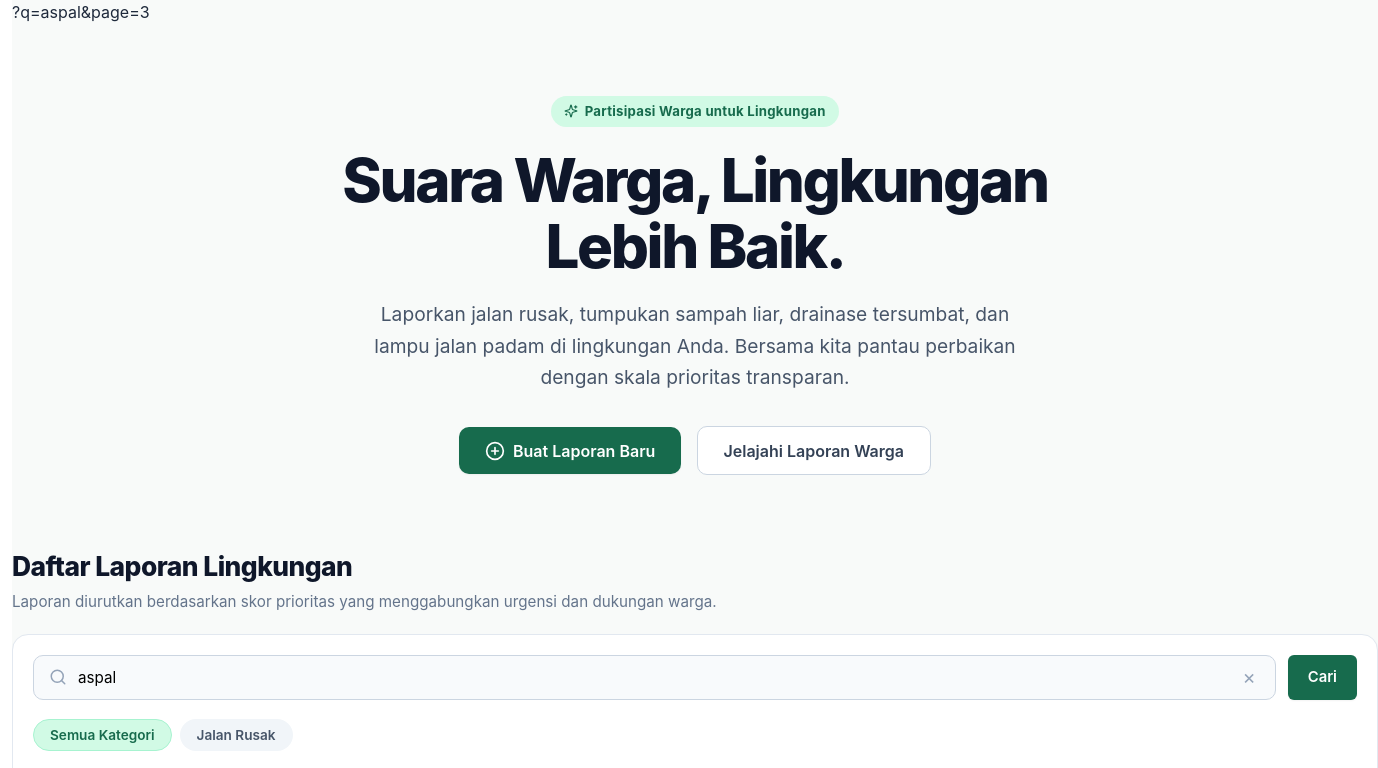
Test: HomePage › clears search directly and resets sort and category filters to page one
Click the button "×" at (1249, 677), box [1234,661,1264,693]
(page scrolled)
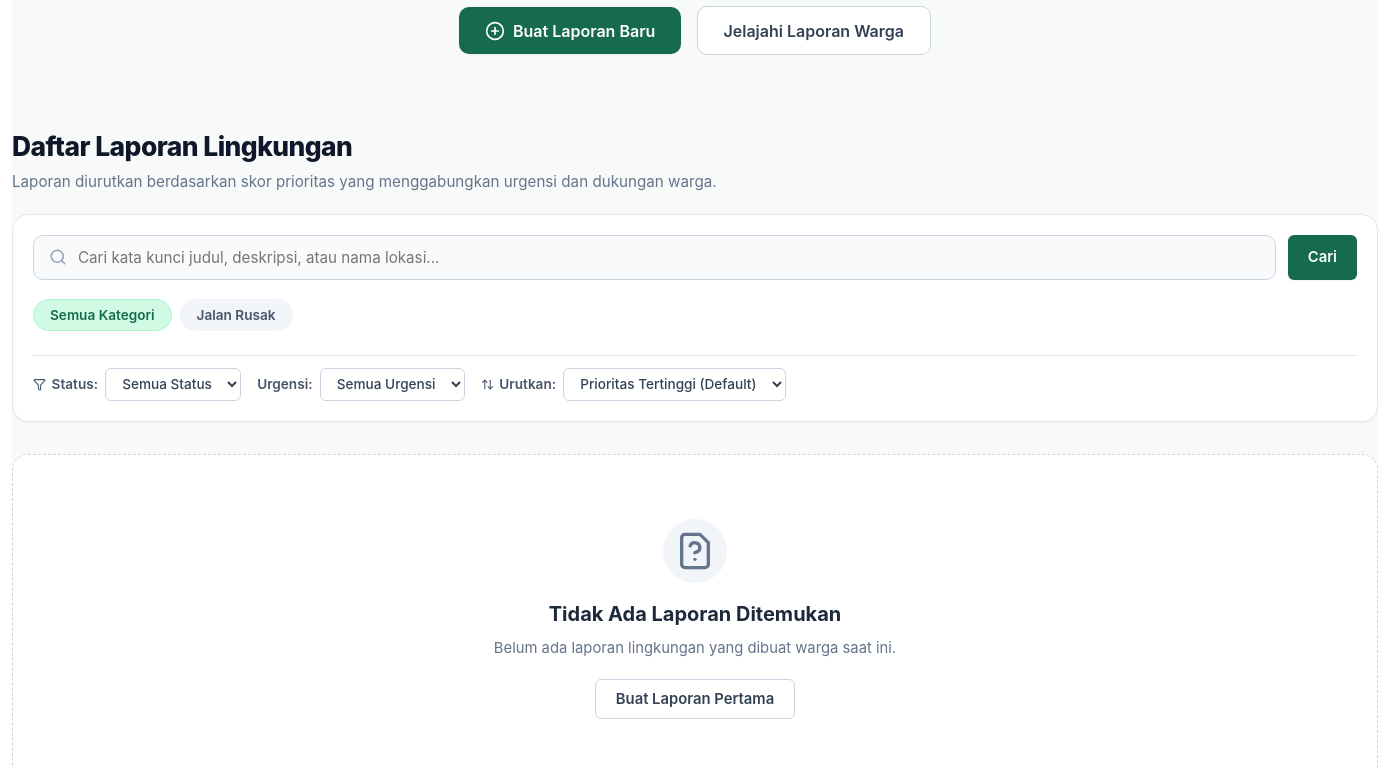
Select "Rendah" in the dropdown labelled "Urgensi:" at (392, 384), box [320,368,465,401]
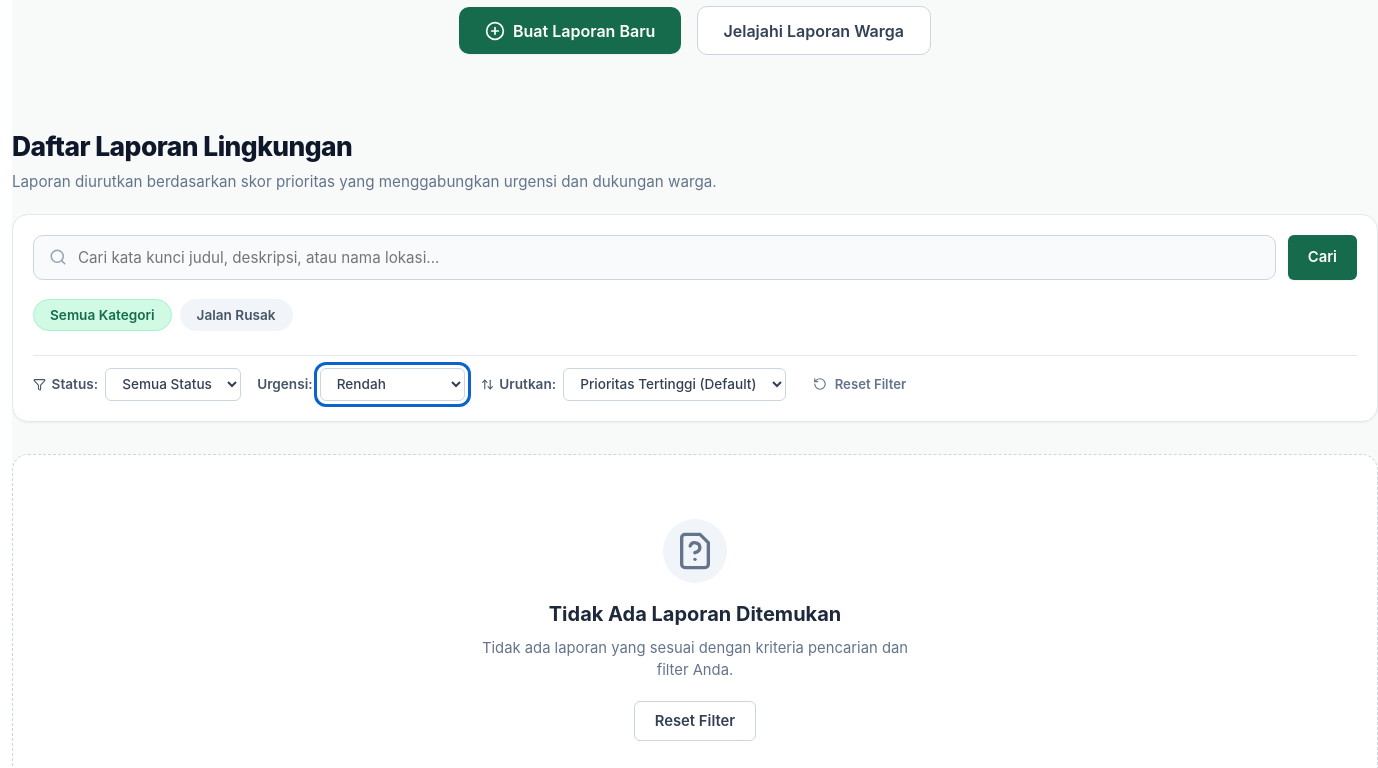
Click the button "Semua Kategori" at (102, 315), box [33,299,172,331]
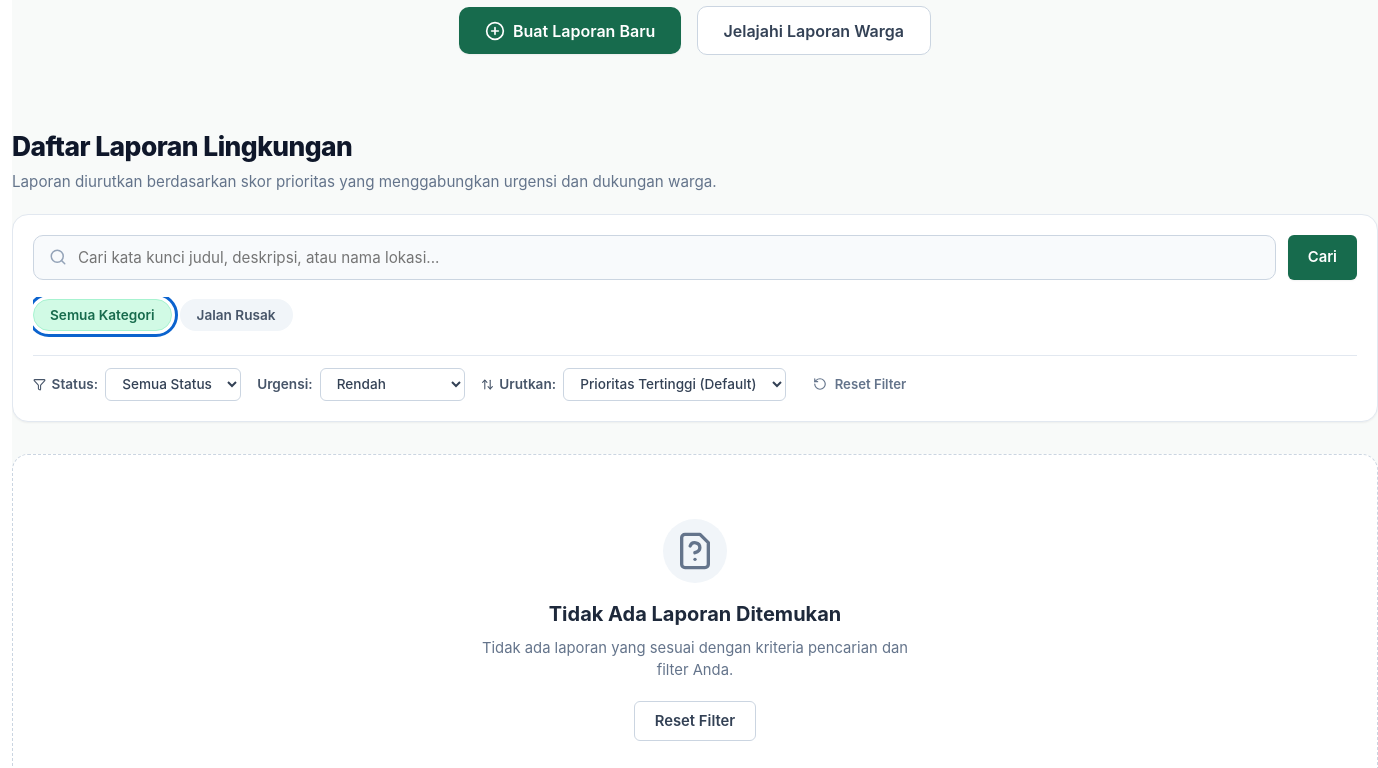
Check: the dropdown labelled "Urutkan:" shows "Prioritas Tertinggi (Default)", box [563,368,786,401]
Click the button "Jalan Rusak" at (236, 315), box [180,299,293,331]
(page scrolled)
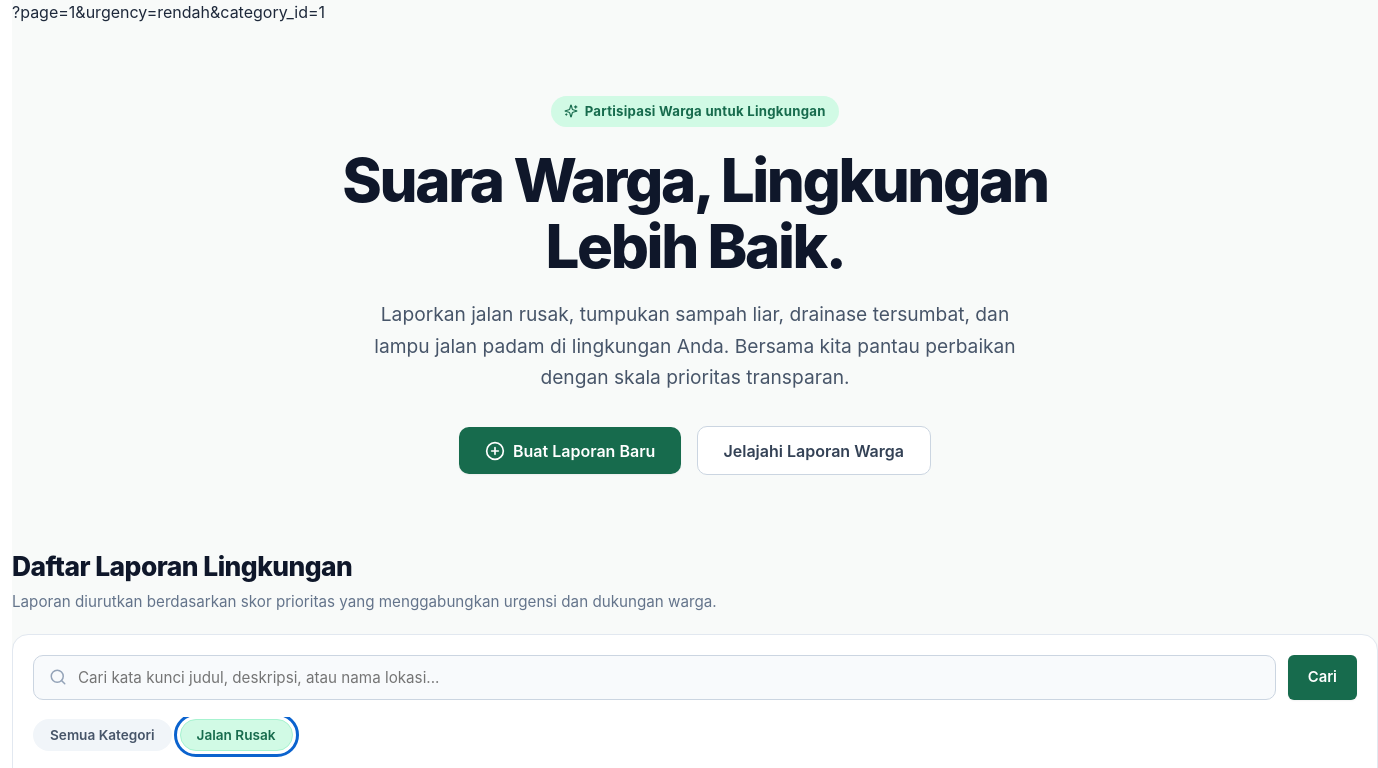
Check: the text with test id "search" shows "category_id=1", box [12,2,325,22]
